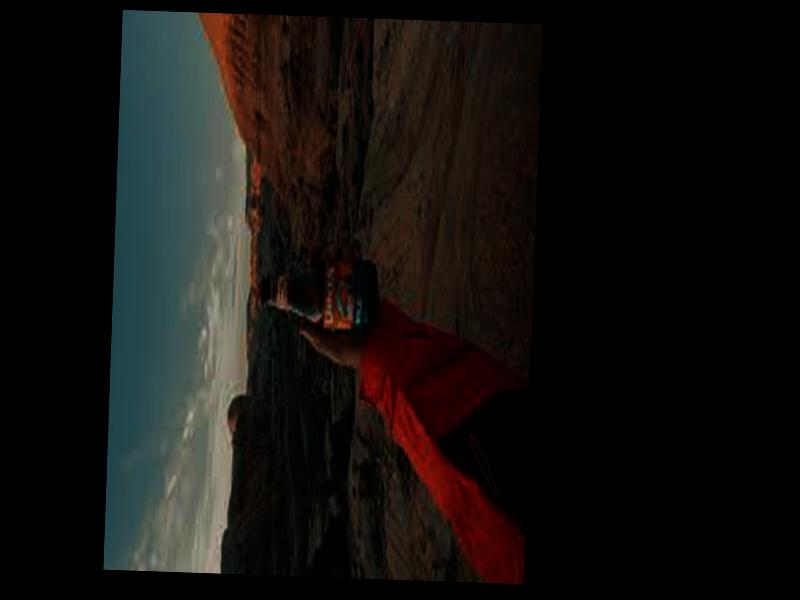Beer: (258, 253, 377, 339)
